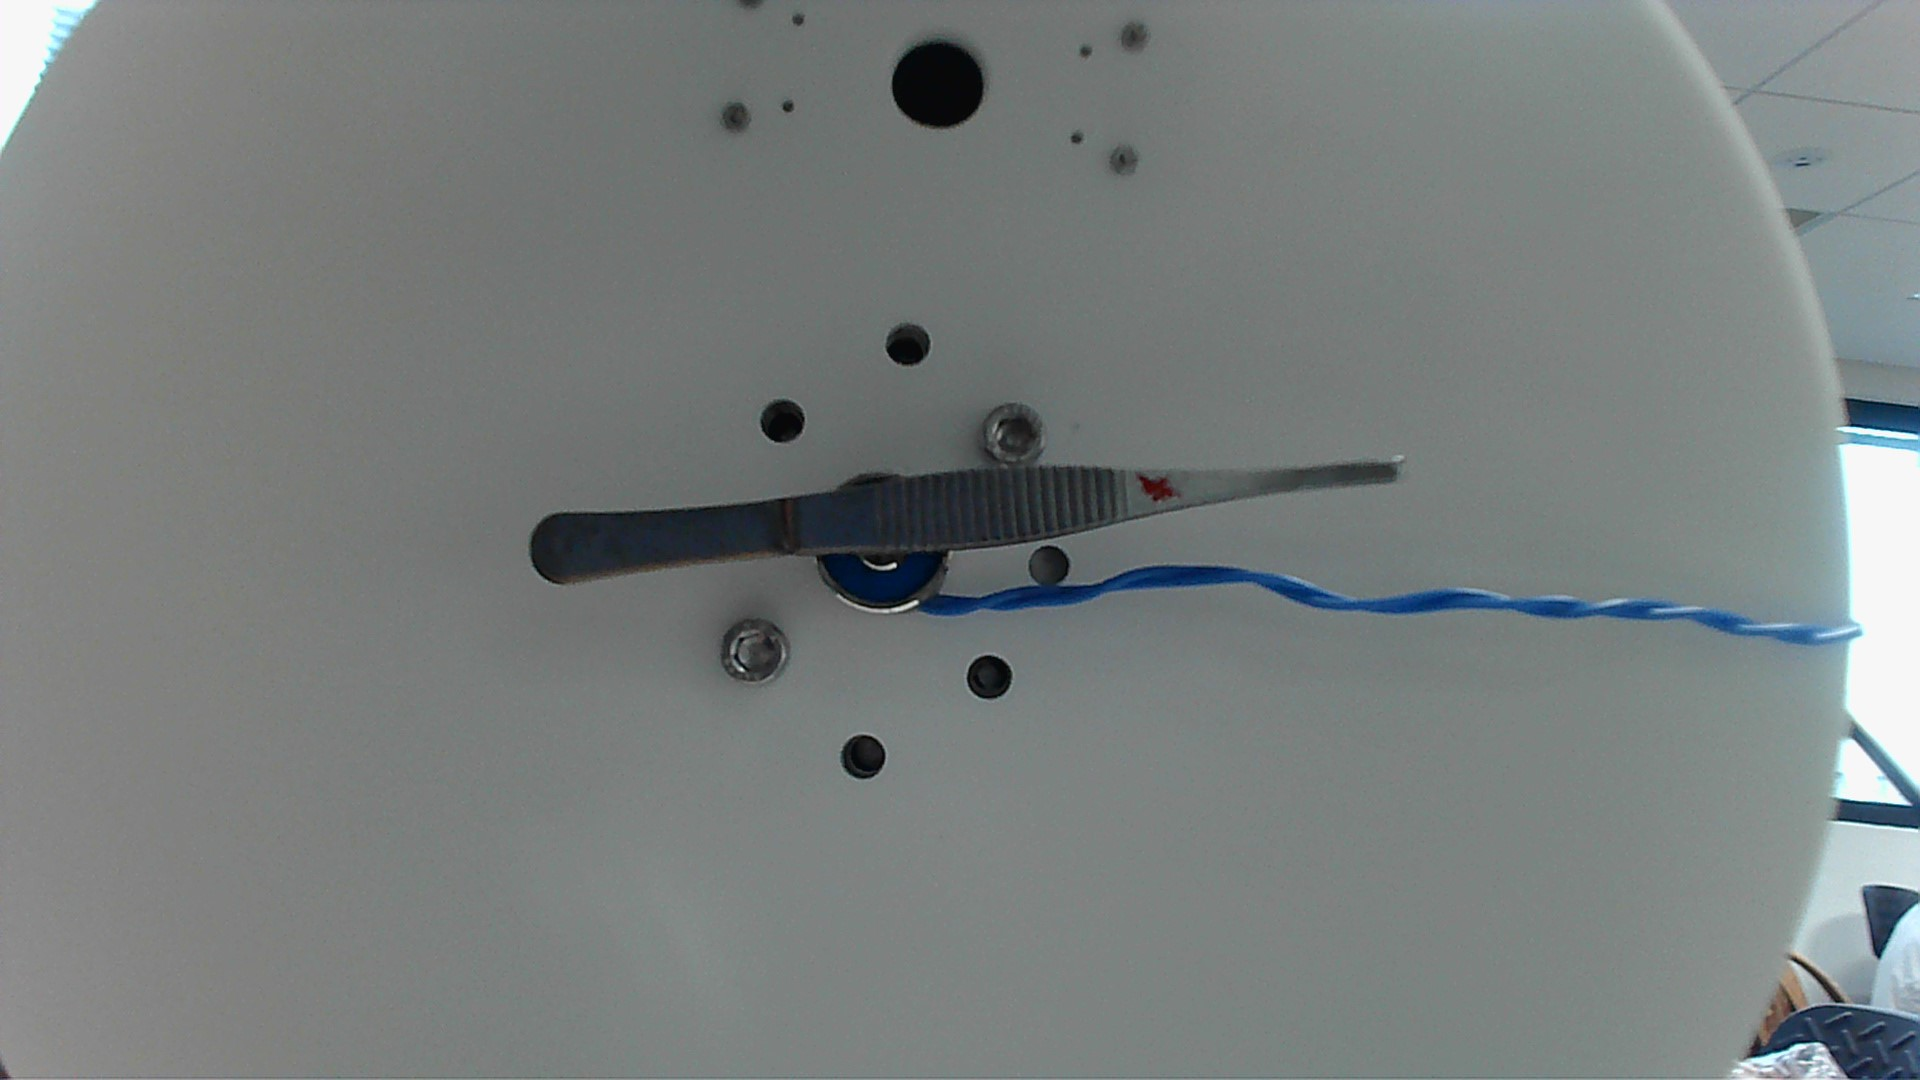Stain: (1131, 475, 1193, 511)
